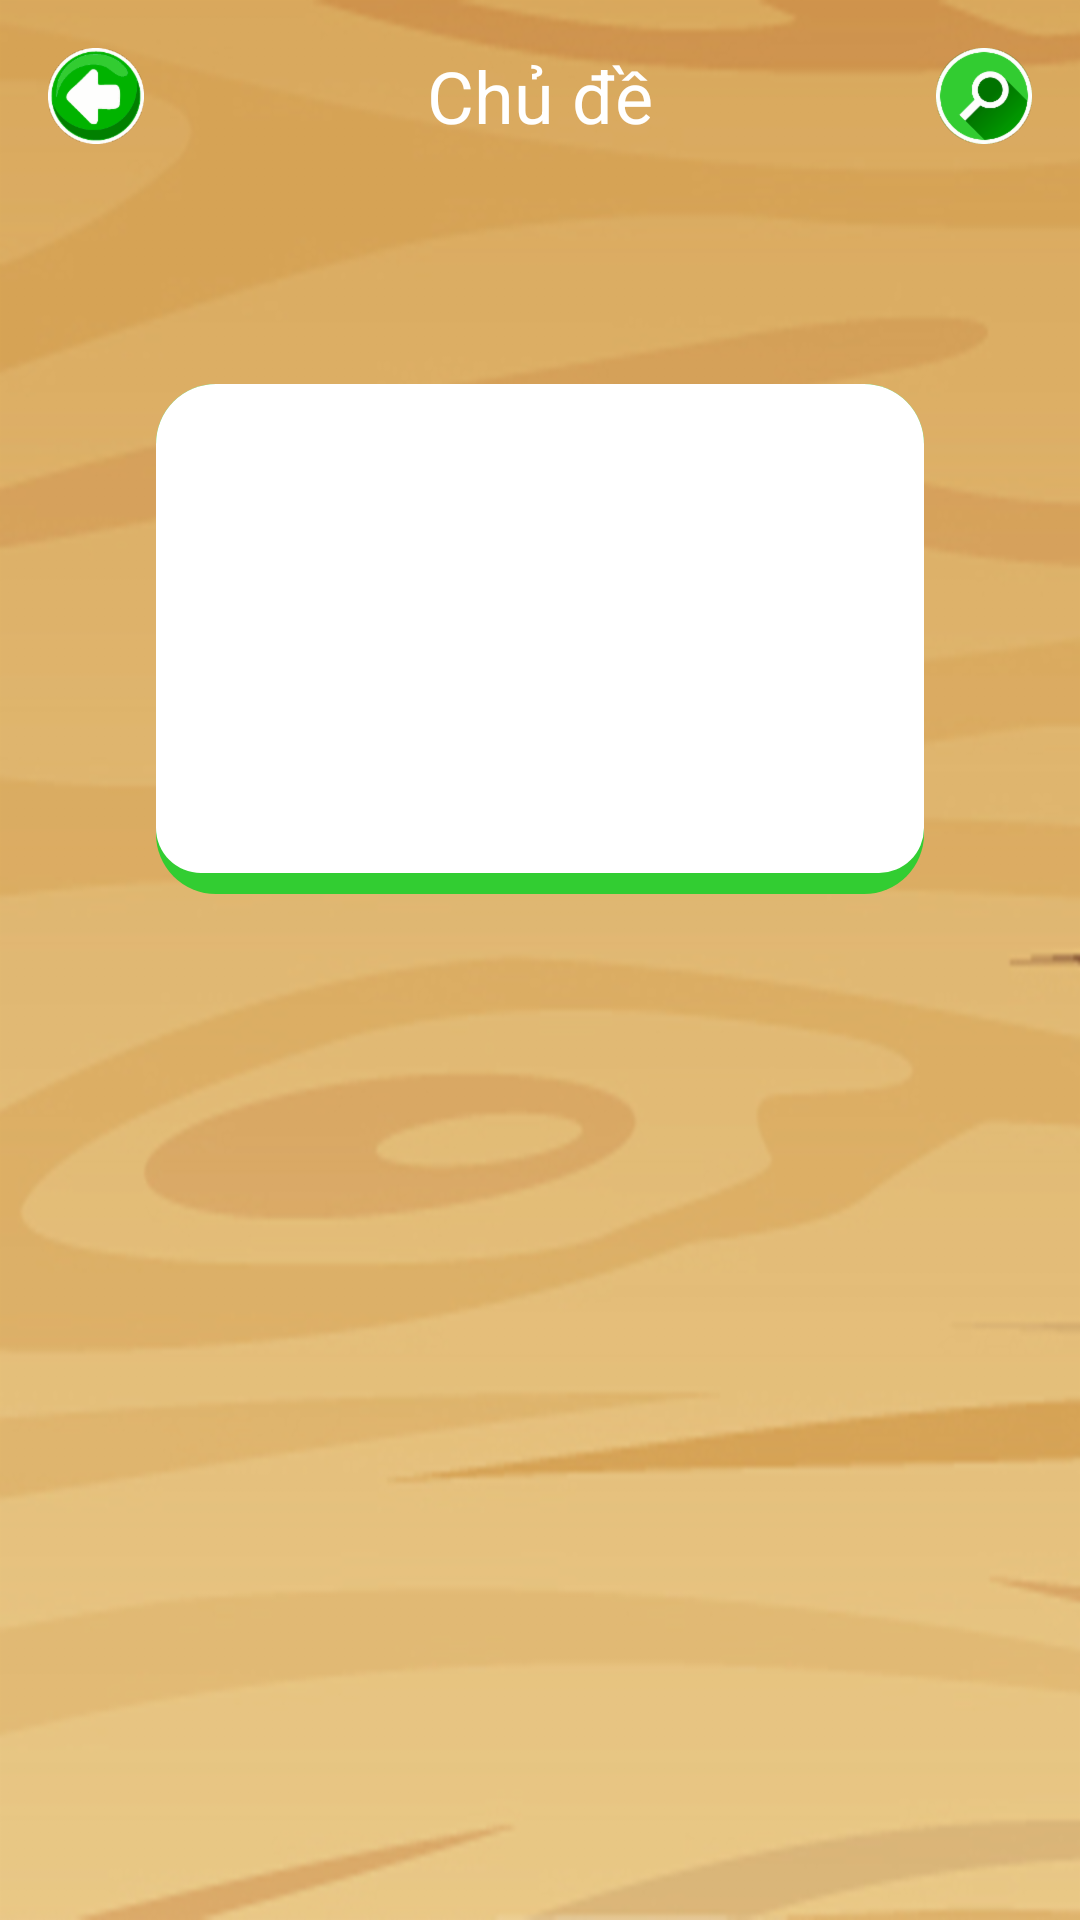

Screen size 1080×1920. Icon name, then its center in pixels as (x=x, y=y):
Image Back: (x=96, y=96)
Image Search: (x=984, y=96)
